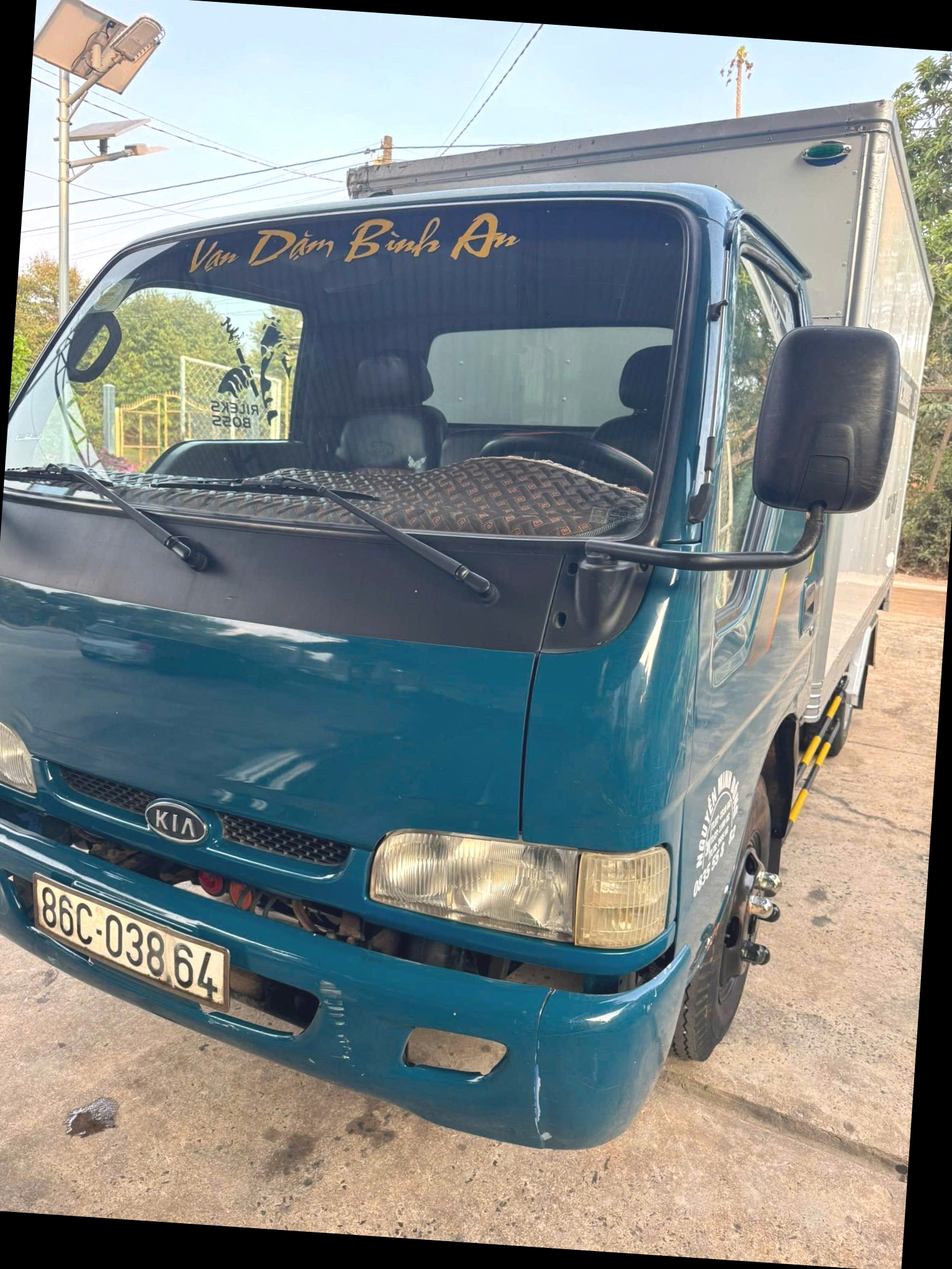Bien-so: (24, 870, 240, 1016)
